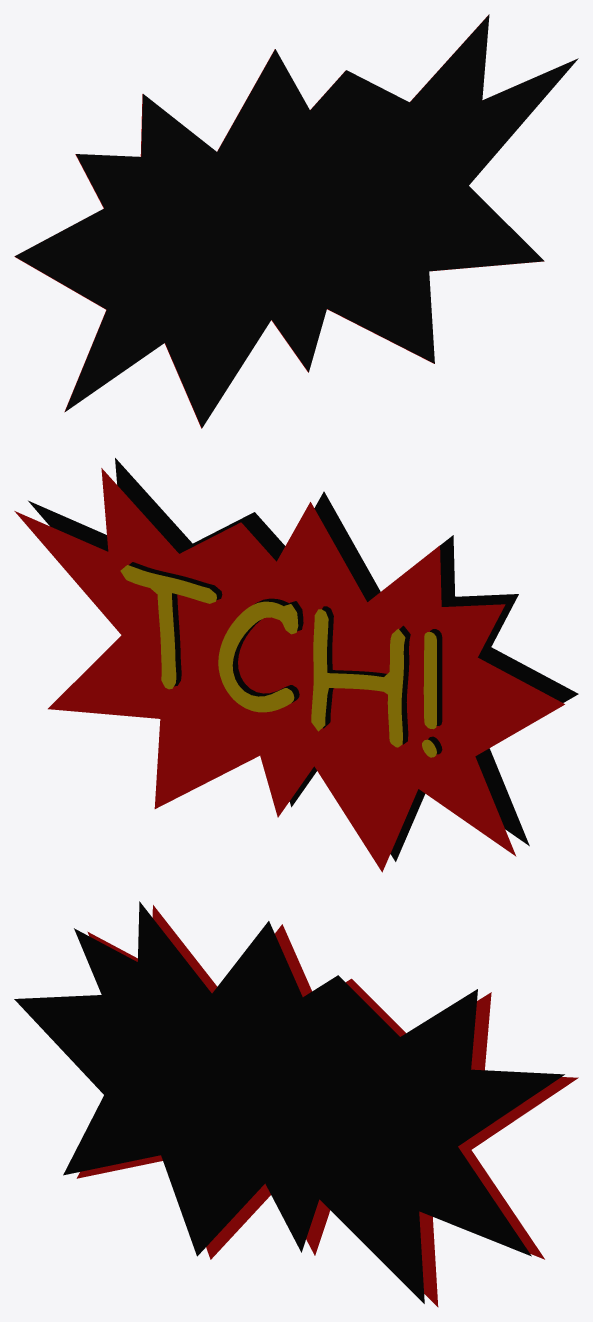
The model's file is Hit4.fbx.
The picture shows the model from 3 angles, top to bottom: view 1: azimuth 30°, elevation 25°; view 2: azimuth 150°, elevation 25°; view 3: azimuth 330°, elevation 25°; orthographic projection. The views are drawn at different scales.
Parts seen in each view (by area): view 1: hit4; view 2: hit4; view 3: hit4.
Part boxes in pixels (left/top/right/bottom): hit4: left=14, top=14, right=578, bottom=428; hit4: left=14, top=458, right=578, bottom=872; hit4: left=14, top=901, right=578, bottom=1307.
Bounding box in the file's own units: 121 × 74.44 × 4.09.
Materials: 1 (1 with a texture image).
